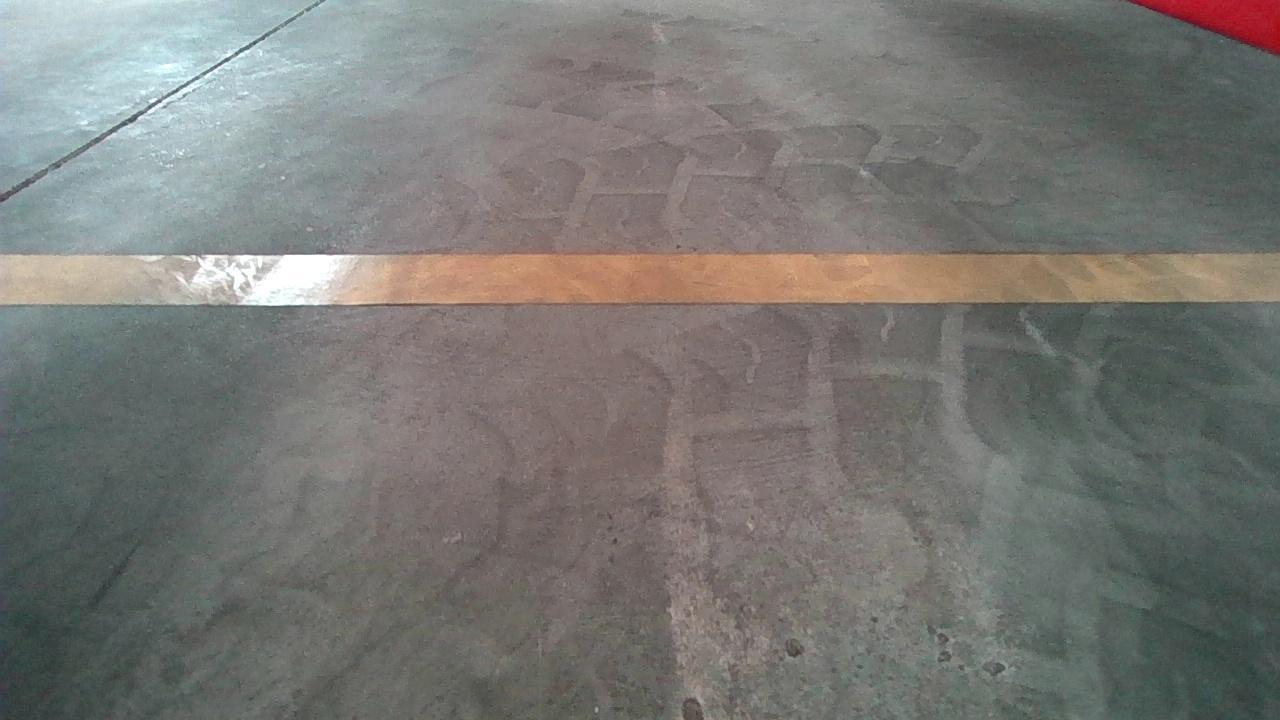yellow_line: (13, 240, 1280, 309)
